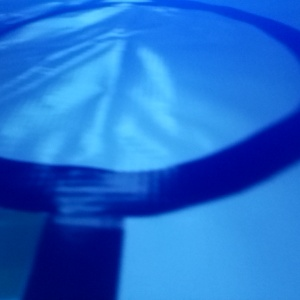bottom_left: (98, 26, 180, 56)
